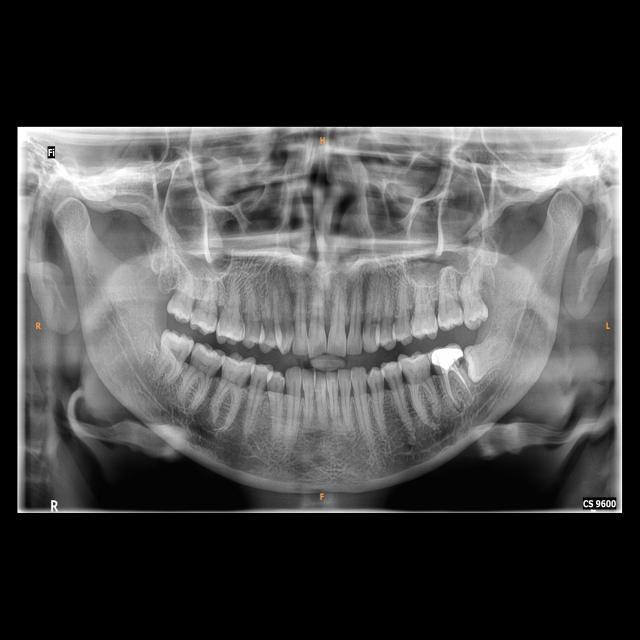kanal-tedavisi: (441, 372, 472, 401)
kaplama: (430, 344, 462, 369)
